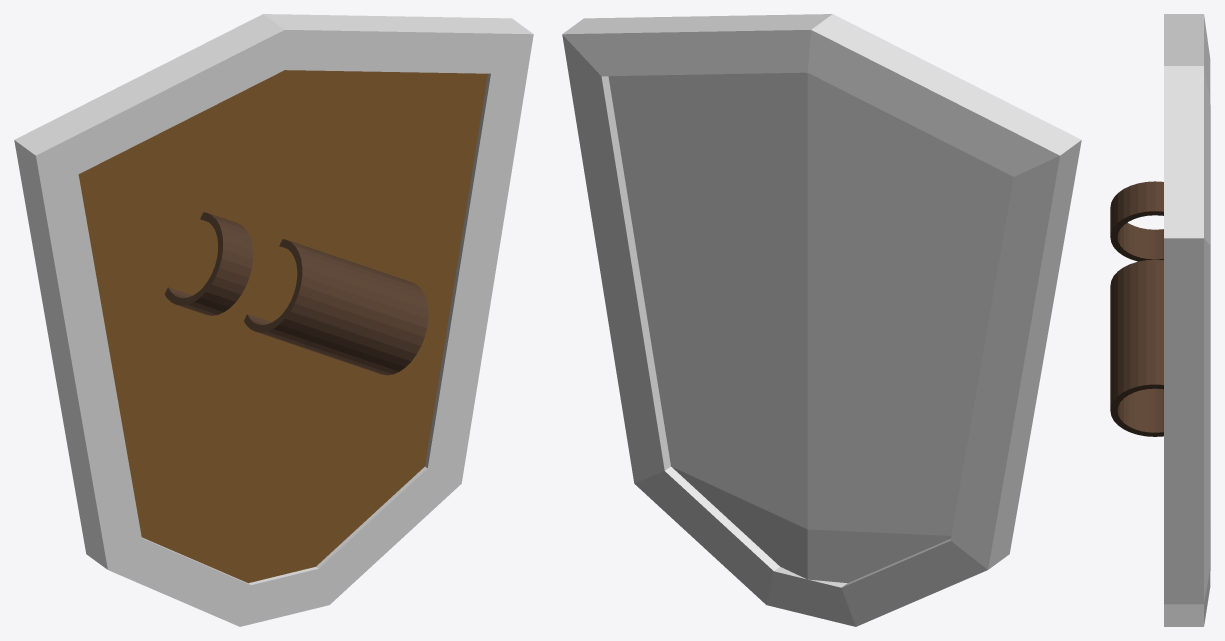
Rendered from Shield2.fbx.
The picture shows the model from 3 angles, left to right: view 1: azimuth 30°, elevation 25°; view 2: azimuth 150°, elevation 25°; view 3: azimuth 270°, elevation 25°; orthographic projection. The views are drawn at different scales.
Parts seen in each view (by area): view 1: Cube, Cylinder, Cylinder.001; view 2: Cube; view 3: Cube, Cylinder, Cylinder.001.
Boxes of the visible parts, bbox=[...] form: Cube: bbox=[14, 14, 533, 626]; Cylinder: bbox=[244, 239, 428, 375]; Cylinder.001: bbox=[164, 212, 253, 315]; Cube: bbox=[562, 14, 1081, 626]; Cube: bbox=[1164, 14, 1210, 626]; Cylinder: bbox=[1110, 259, 1163, 436]; Cylinder.001: bbox=[1110, 181, 1163, 261].
Bounding box in the file's own units: 200 × 225 × 37.79.
